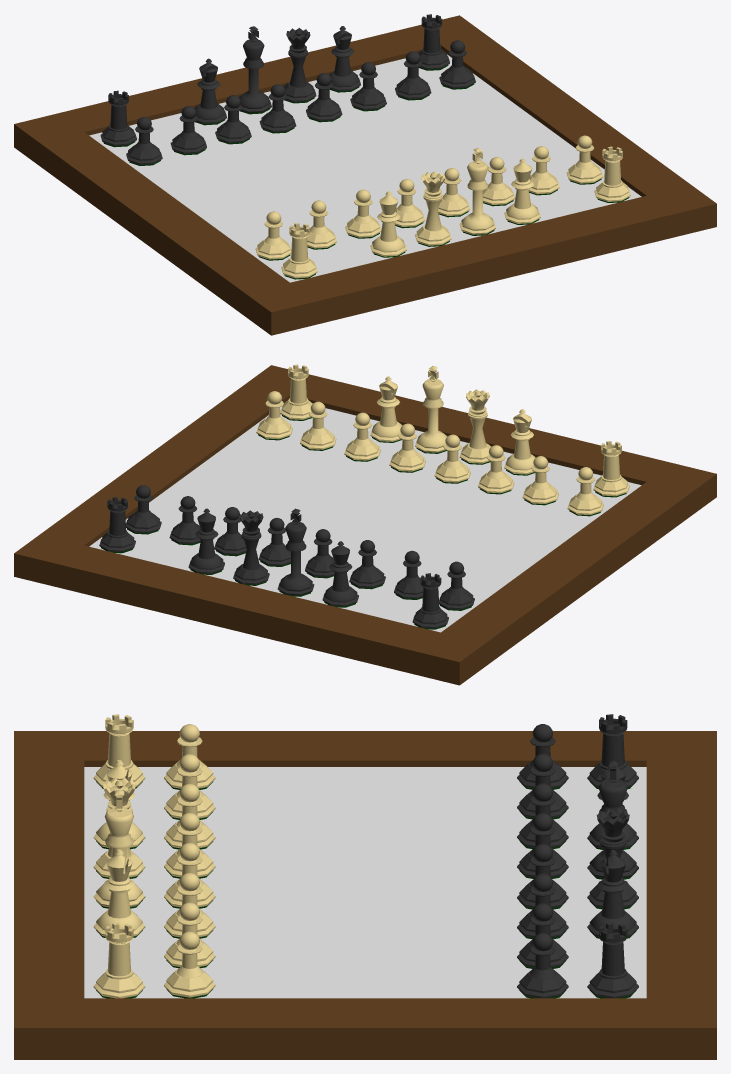
Rendered from chessBoard.fbx.
3 renders of one model, top to bottom at view 1: azimuth 30°, elevation 25°; view 2: azimuth 150°, elevation 25°; view 3: azimuth 270°, elevation 25°, orthographic. The views are drawn at different scales.
Visible parts, largest first — view 1: chessBoard, kingWhite, kingBlack, queenWhite, queenBlack, bishopWhire, bishopWhite, bishopBlack, bishopBlack.001, rookWhite, rookBlack, rookWhite.001 (+17 smaller); view 2: chessBoard, kingBlack, kingWhite, queenBlack, queenWhite, bishopBlack.001, bishopBlack, bishopWhite, rookBlack, bishopWhire, rookWhite, rookBlack.001 (+17 smaller); view 3: chessBoard, rookBlack.001, rookWhite.001, bishopWhite, bishopBlack.001, pawnWhite.007, pawnBlack, kingWhite, rookBlack, queenBlack, rookWhite, kingBlack (+17 smaller).
Boxes of the visible parts, x1,y1,x2,y2 form: chessBoard: (14, 15, 716, 335); kingWhite: (459, 148, 495, 235); kingBlack: (239, 26, 271, 114); queenWhite: (415, 171, 451, 246); queenBlack: (283, 28, 316, 103); bishopWhire: (370, 191, 406, 257); bishopWhite: (504, 158, 540, 224); bishopBlack: (194, 58, 226, 125); bishopBlack.001: (329, 26, 360, 92); rookWhite: (281, 223, 317, 279); rookBlack: (100, 90, 136, 147); rookWhite.001: (594, 146, 630, 202); chessBoard: (14, 365, 716, 685); kingBlack: (277, 508, 314, 596); kingWhite: (415, 366, 447, 453); queenBlack: (233, 510, 269, 585); queenWhite: (459, 389, 490, 464); bishopBlack.001: (188, 508, 224, 574); bishopBlack: (322, 541, 358, 607); bishopWhite: (370, 376, 402, 442); rookBlack: (412, 573, 448, 629); bishopWhire: (504, 409, 535, 475); rookWhite: (593, 441, 629, 497); rookBlack.001: (99, 497, 135, 553); chessBoard: (14, 731, 716, 1059); rookBlack.001: (587, 923, 638, 998); rookWhite.001: (93, 923, 145, 998); bishopWhite: (93, 849, 145, 937); bishopBlack.001: (587, 849, 638, 938); pawnWhite.007: (164, 931, 215, 998); pawnBlack: (517, 932, 568, 998); kingWhite: (93, 790, 145, 908); rookBlack: (587, 714, 638, 789); queenBlack: (587, 808, 638, 909); rookWhite: (93, 714, 145, 788); kingBlack: (587, 761, 638, 879).
Bounding box in the file's own units: 60 × 12.71 × 60.
